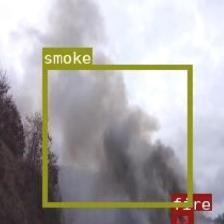fire: (170, 209, 191, 224)
smoke: (42, 64, 191, 206)
